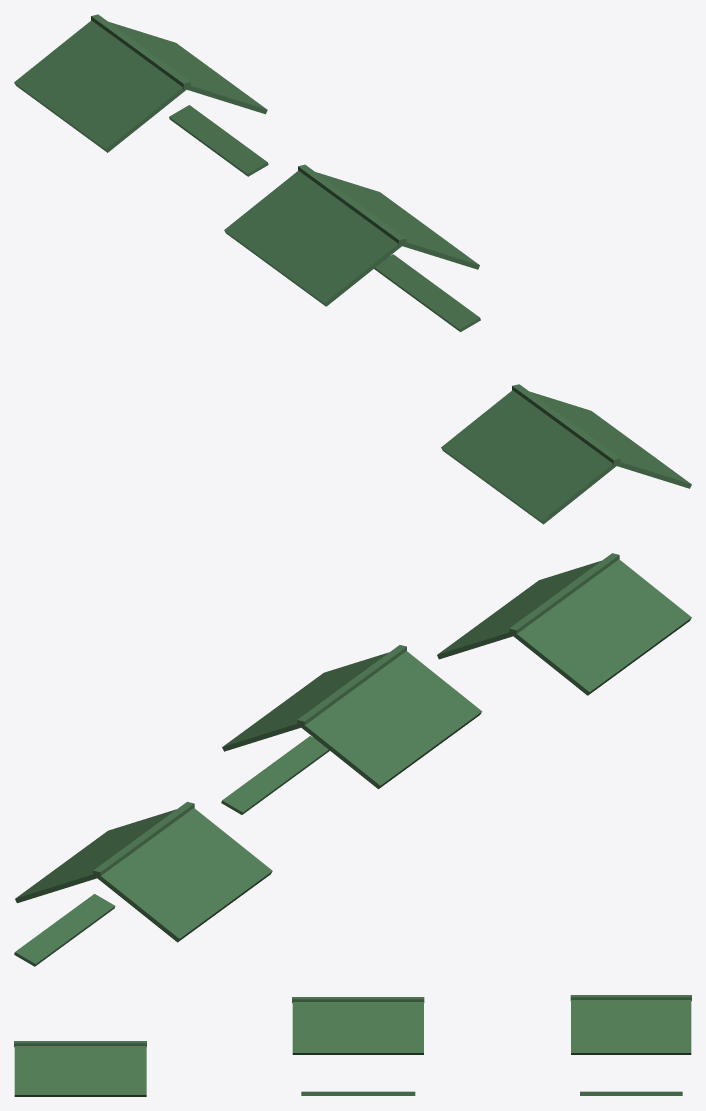
The model's file is HouseRoofsE_RoofGreen.fbx.
The picture shows the model from 3 angles, top to bottom: view 1: azimuth 30°, elevation 25°; view 2: azimuth 150°, elevation 25°; view 3: azimuth 270°, elevation 25°; orthographic projection. The views are drawn at different scales.
Parts seen in each view (by area): view 1: RoofE0_-1.001; view 2: RoofE0_-1.001; view 3: RoofE0_-1.001.
Boxes of the visible parts, x1,y1,x2,y2 form: RoofE0_-1.001: (14,14,691,524); RoofE0_-1.001: (14,553,691,966); RoofE0_-1.001: (14,995,691,1096).
Size of the model in its own units: 2358 by 1537 by 12441.
